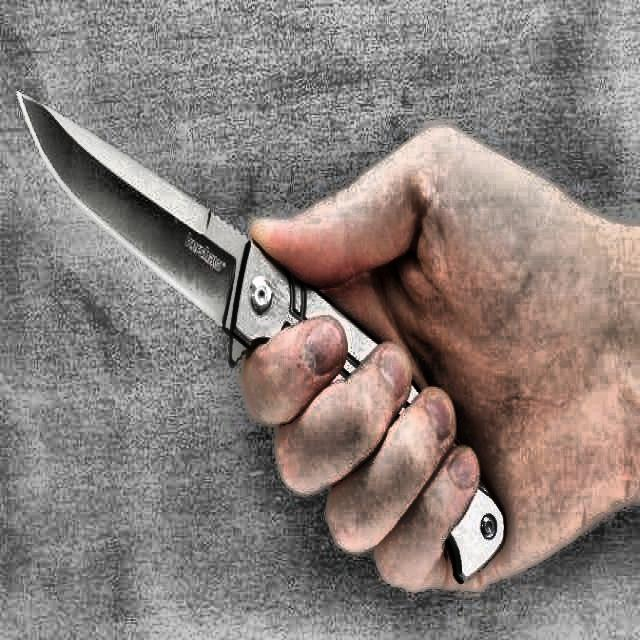knife: (17, 93, 509, 583)
